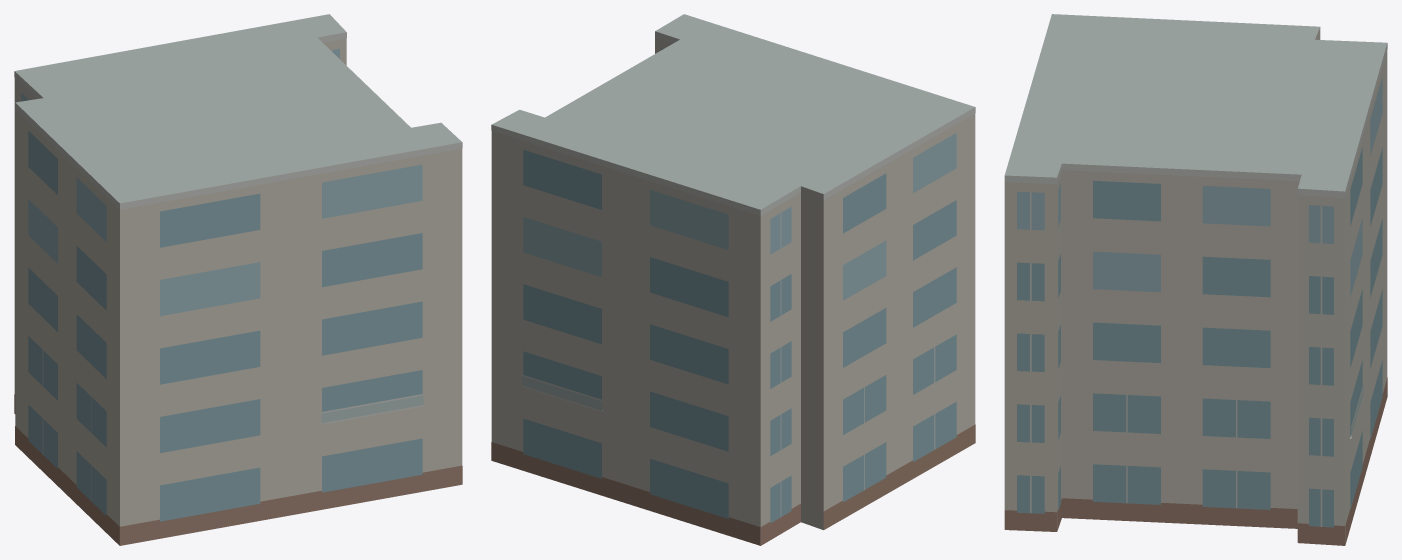
The model's file is survey-upis-32878967.glb.
3 views of the same model, side by side, from view 1: azimuth 30°, elevation 25°; view 2: azimuth 150°, elevation 25°; view 3: azimuth 270°, elevation 25° (orthographic). The views are drawn at different scales.
Visible parts, largest first — view 1: survey-upis-32878967.tmp; view 2: survey-upis-32878967.tmp; view 3: survey-upis-32878967.tmp.
Part boxes in pixels (x1,y1,x2,y2): survey-upis-32878967.tmp: (14,14,462,545); survey-upis-32878967.tmp: (491,14,975,545); survey-upis-32878967.tmp: (1004,14,1387,545).
Size of the model in its own units: 14.3 by 13.3 by 13.03.
